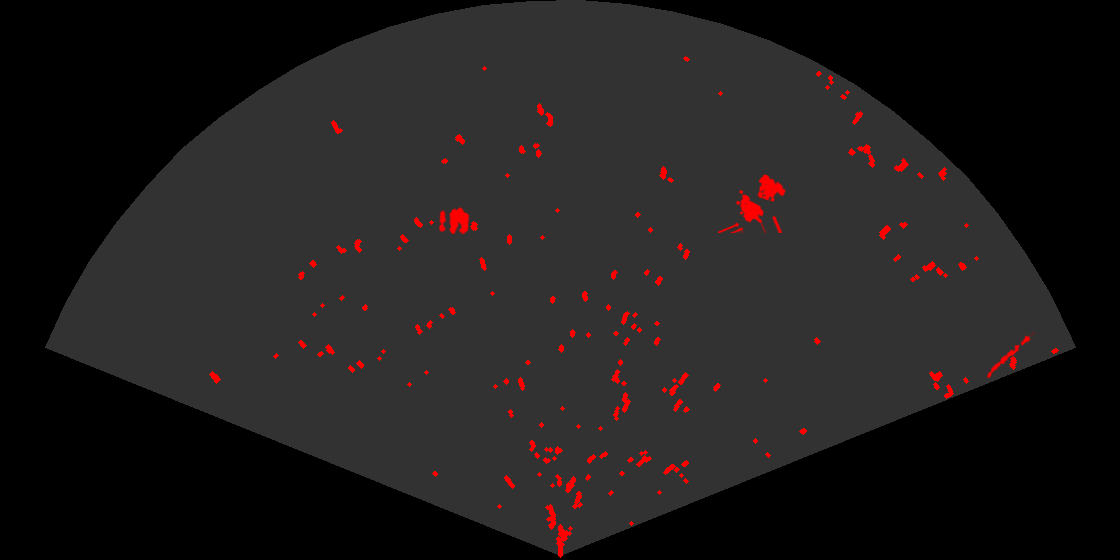ball: (437, 206, 471, 236)
cage: (718, 173, 788, 233)
chain: (985, 329, 1035, 380)
